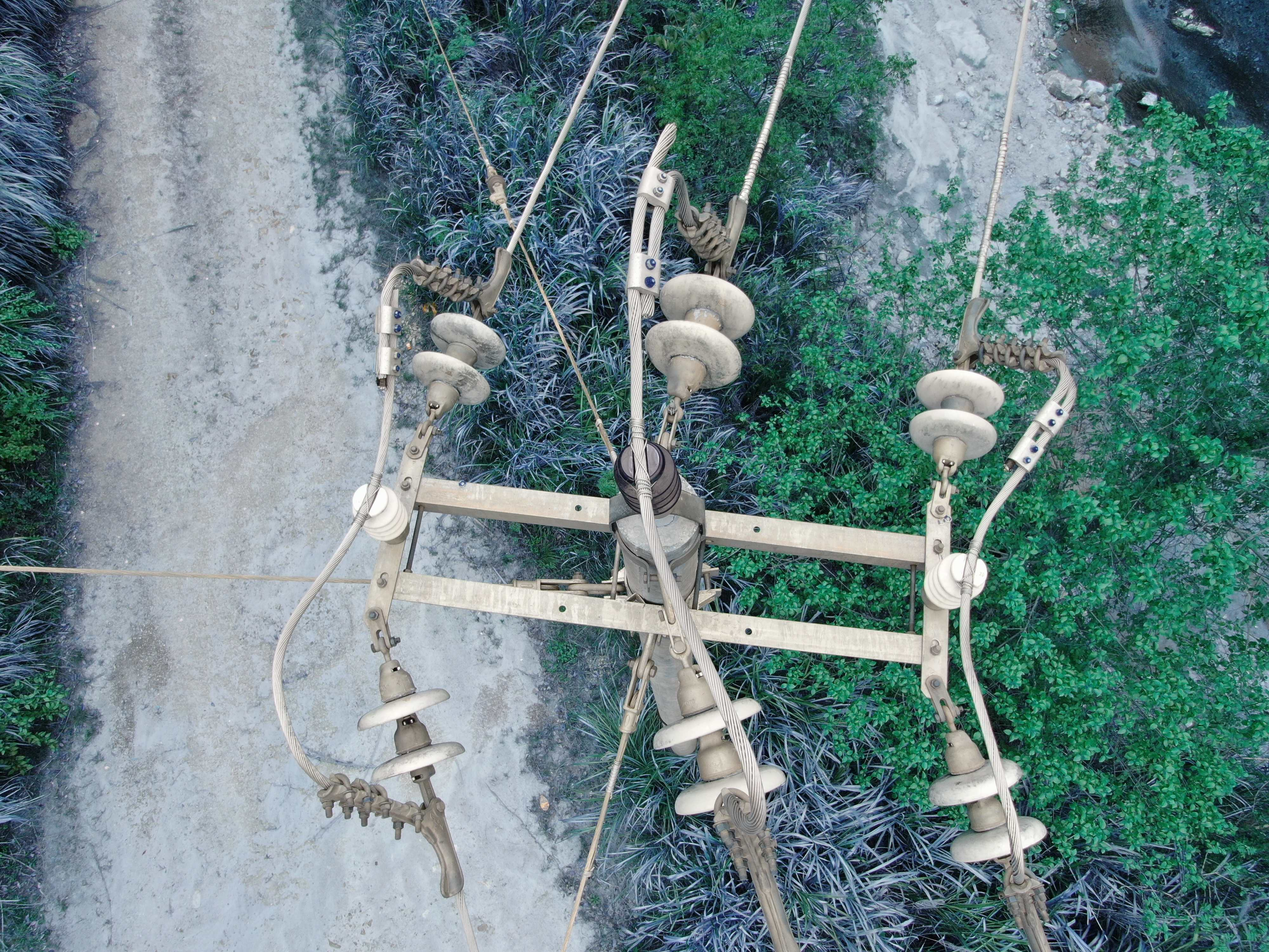severe_soiling_no_discharge_whole: (924, 725, 1050, 867), (642, 270, 761, 405), (353, 656, 471, 785), (905, 364, 1007, 479), (407, 310, 508, 423)
